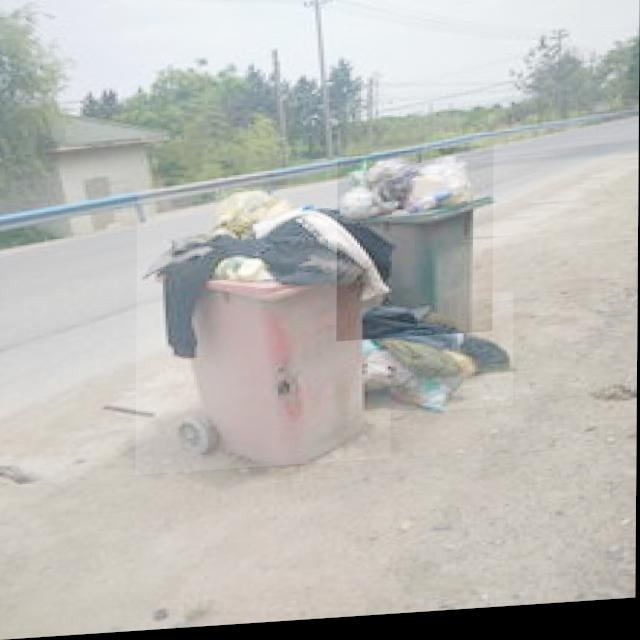garbage: (354, 299, 514, 422)
overflow: (136, 183, 393, 477), (337, 152, 494, 346)
